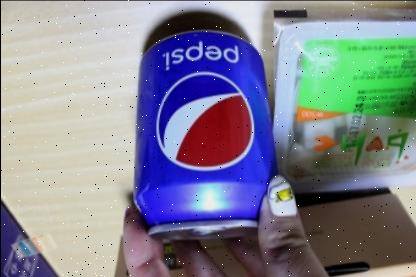Can: (133, 28, 279, 238)
